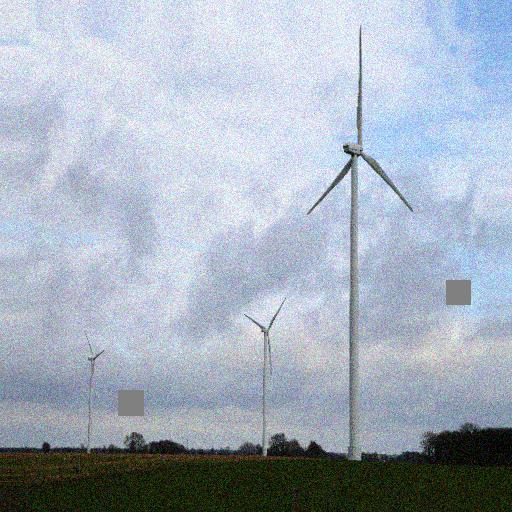wind turbine: (306, 25, 415, 458), (244, 298, 286, 460), (82, 331, 108, 449)
